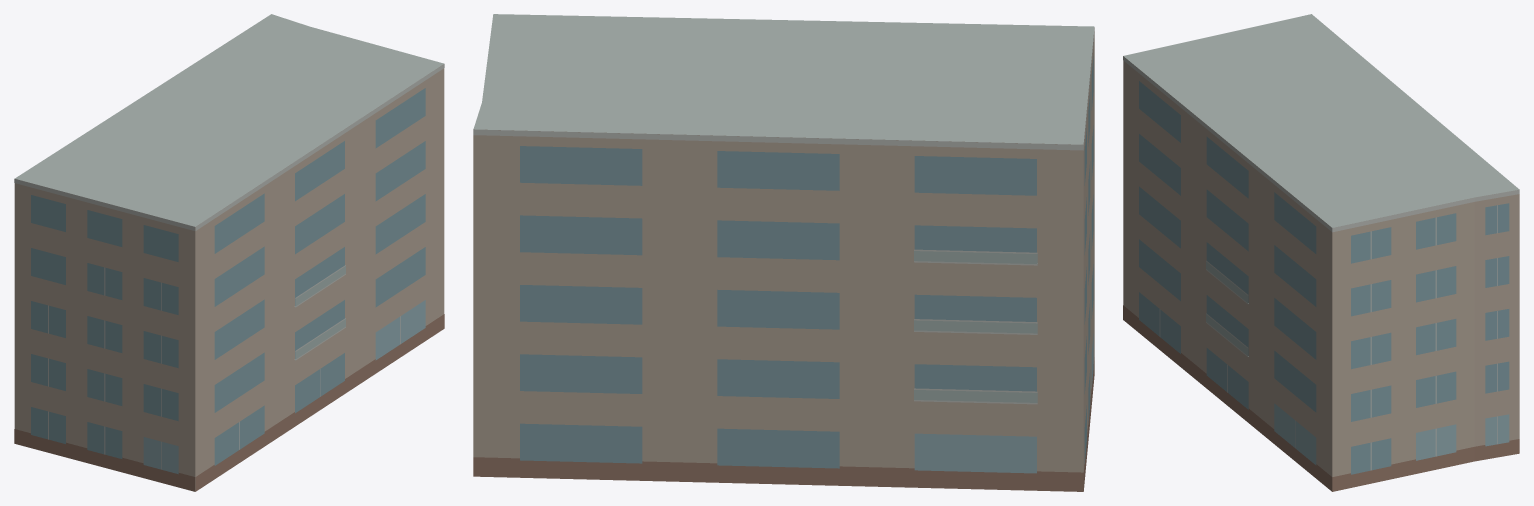
Rendered from survey-upis-32863844.glb.
3 renders of one model, left to right at view 1: azimuth 30°, elevation 25°; view 2: azimuth 150°, elevation 25°; view 3: azimuth 270°, elevation 25°, orthographic. The views are drawn at different scales.
Visible parts, largest first — view 1: survey-upis-32863844.tmp; view 2: survey-upis-32863844.tmp; view 3: survey-upis-32863844.tmp.
Part boxes in pixels (x1=…): survey-upis-32863844.tmp: x1=14, y1=14, x2=444, y2=491; survey-upis-32863844.tmp: x1=473, y1=14, x2=1094, y2=491; survey-upis-32863844.tmp: x1=1123, y1=14, x2=1519, y2=491.
Bounding box in the file's own units: 25.74 × 14.8 × 20.17.
